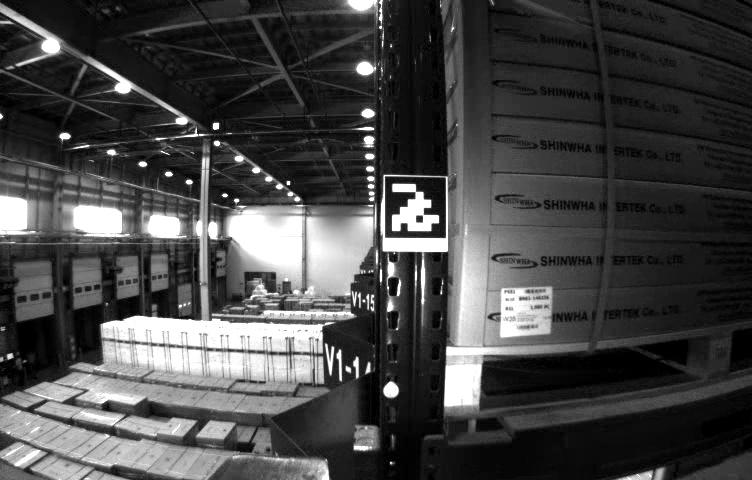True Barcode: (500, 286, 551, 336)
